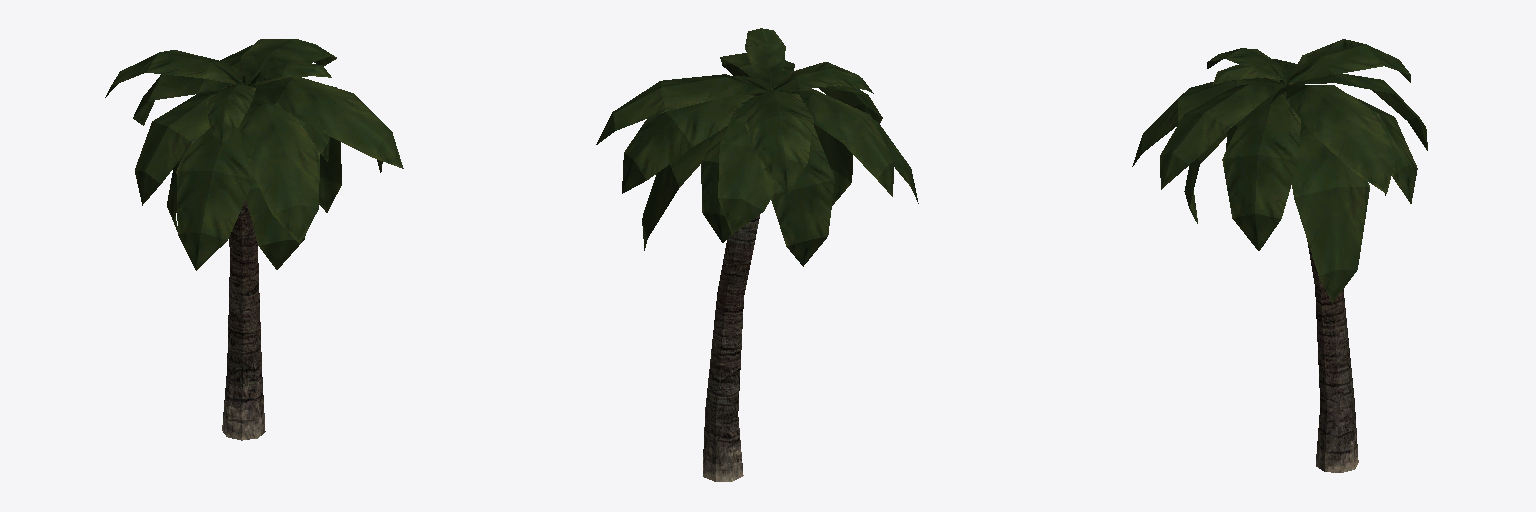
3 views of the same model, side by side, from view 1: azimuth 30°, elevation 25°; view 2: azimuth 150°, elevation 25°; view 3: azimuth 270°, elevation 25° (orthographic).
Parts seen in each view (by area): view 1: 00D4_zlib_0.001; view 2: 00D4_zlib_0.001; view 3: 00D4_zlib_0.001.
Part boxes in pixels (x1,y1,x2,y2): 00D4_zlib_0.001: (105,39,403,440); 00D4_zlib_0.001: (596,28,918,481); 00D4_zlib_0.001: (1132,39,1427,472).
Bounding box in the file's own units: 20.83 × 33.45 × 22.44.
Materials: 1 (1 with a texture image).